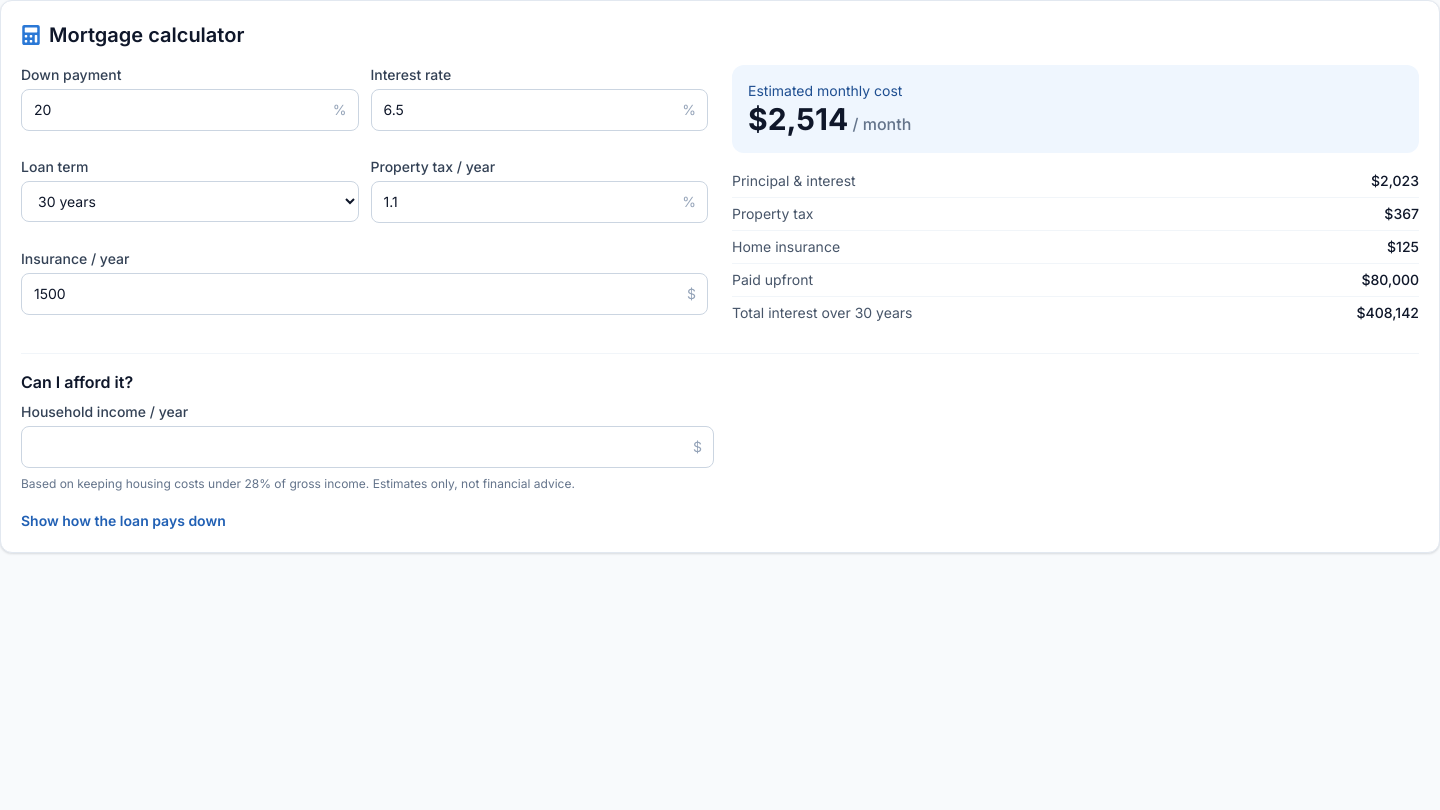
Test: MortgageCalculator › updates as the terms change
Step 1. Replace the text in the number field labelled "Interest rate" with "6" → (539, 110), box [370,89,708,131]
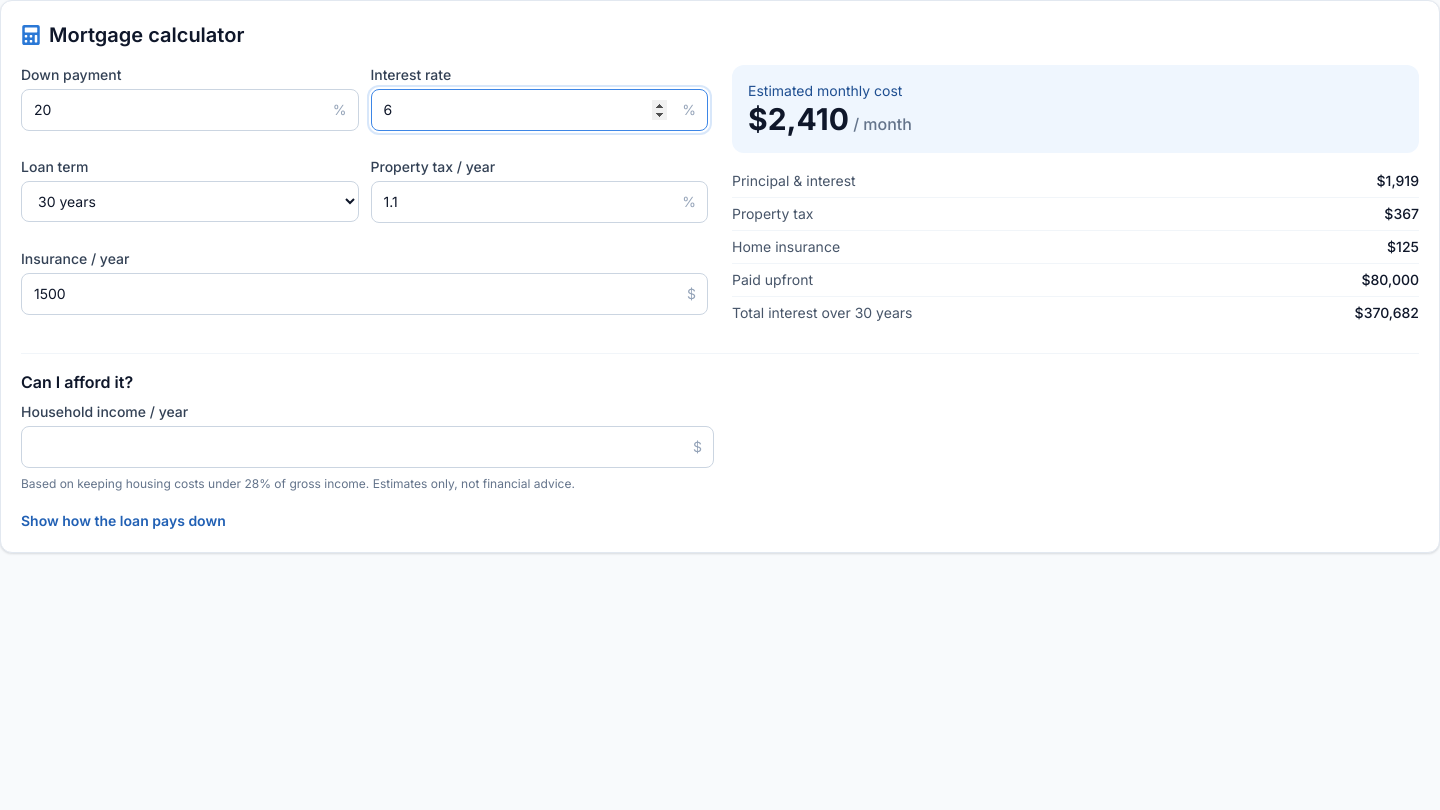
Step 2. Select "15 years" in the dropdown labelled "Loan term" → (190, 202), box [21,181,358,222]
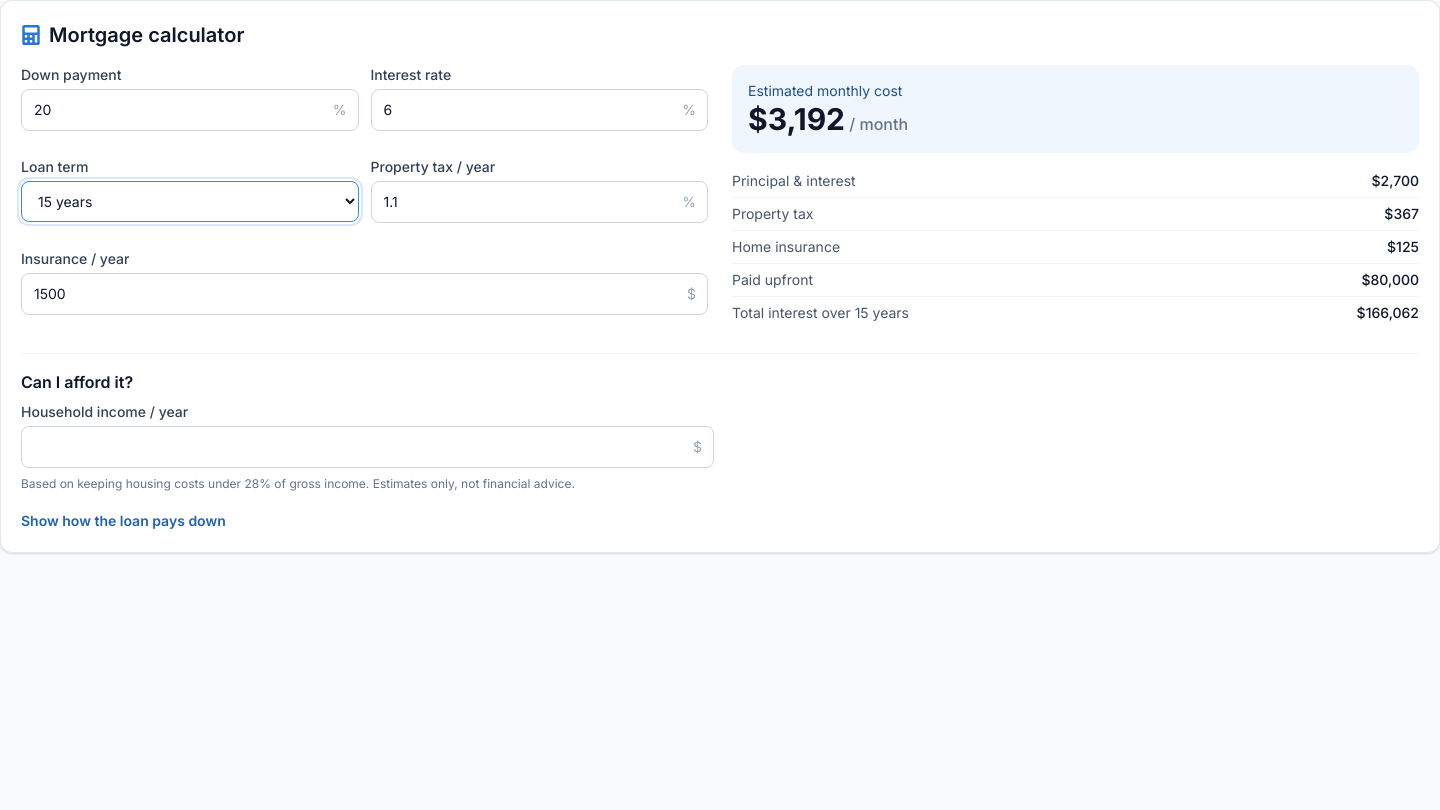
Check: the text "Total interest over 15 years" is shown, box [732,303,909,323]
Check: the text "$2,700" is shown, box [1372,171,1419,191]
